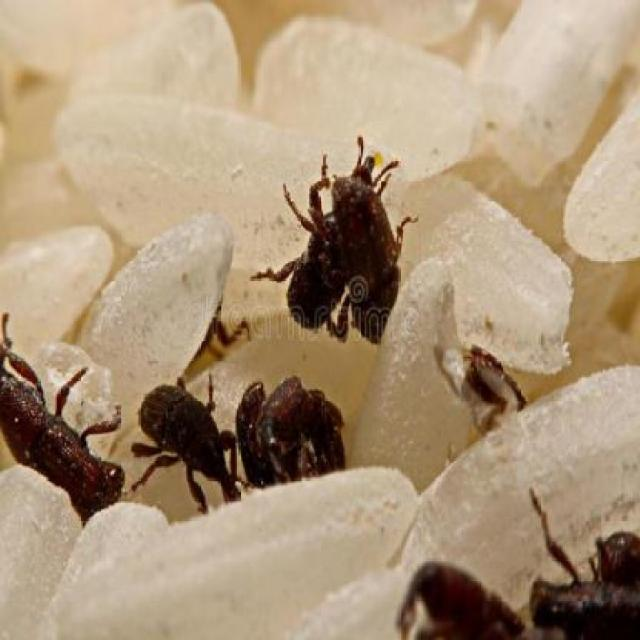rice-bug: (0, 308, 131, 529), (283, 150, 415, 338), (534, 481, 640, 640), (140, 357, 234, 523), (392, 534, 531, 640), (237, 376, 351, 492), (461, 332, 537, 416)
